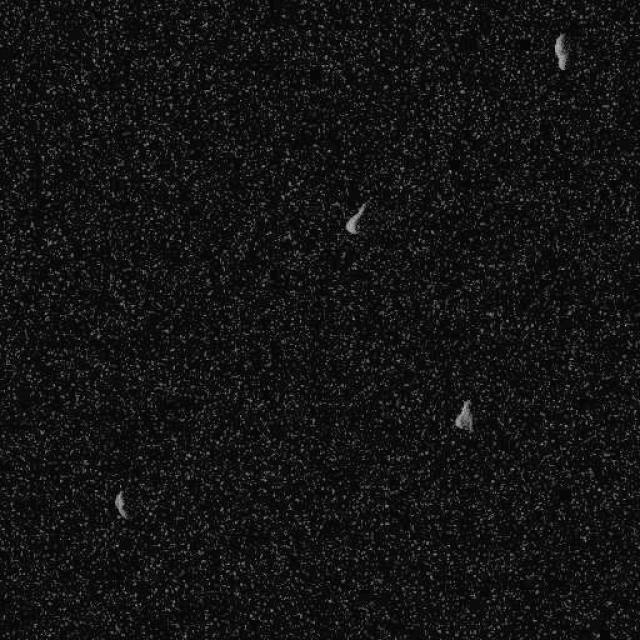D2: (344, 201, 366, 235), (452, 398, 473, 432), (552, 31, 570, 70), (112, 489, 128, 520)
